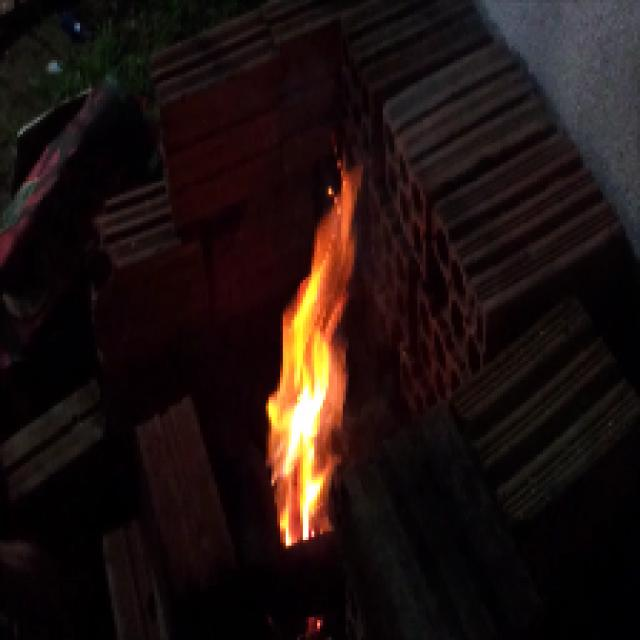fire: (261, 173, 371, 563)
